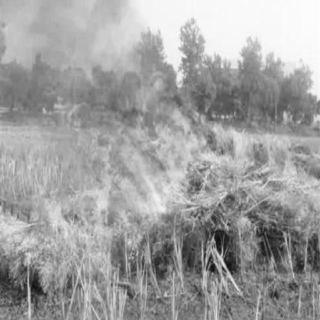Fire: (126, 249, 156, 269)
